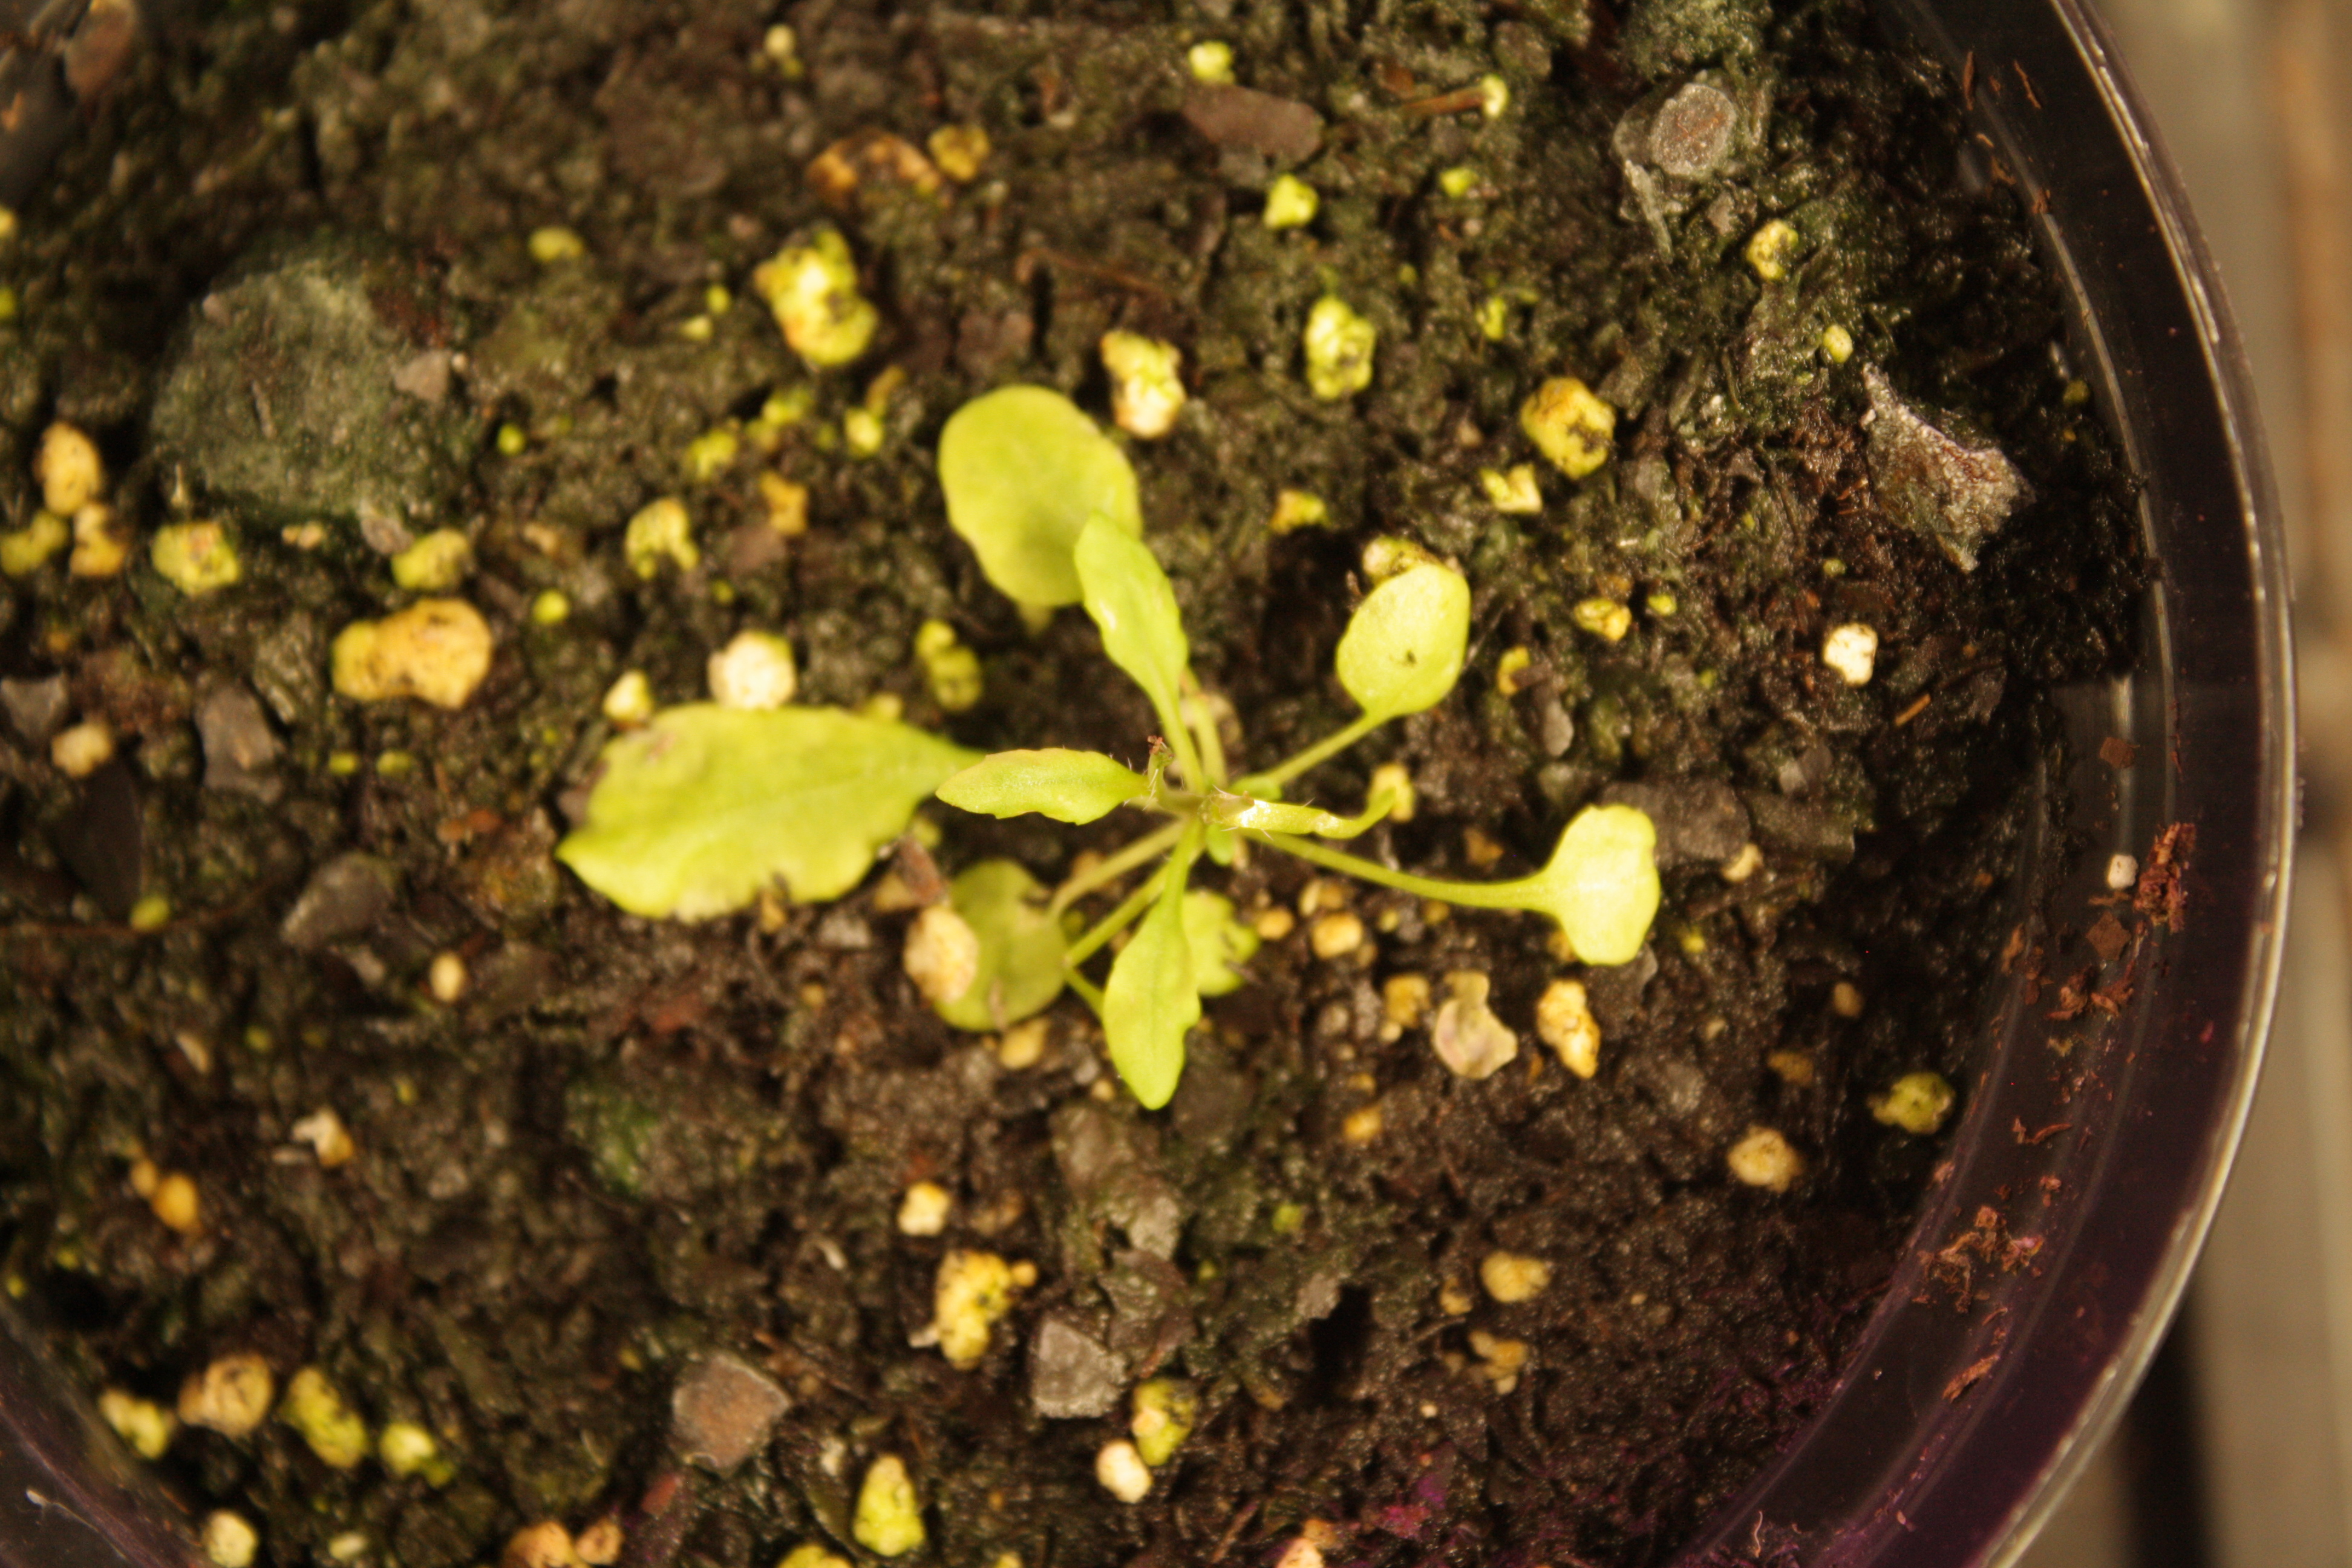leaf: (520, 668, 926, 941), (908, 341, 1153, 619), (1325, 534, 1512, 742), (1064, 507, 1228, 737), (1094, 882, 1237, 1129), (926, 726, 1158, 875), (901, 852, 1088, 1036), (1519, 791, 1690, 977), (1169, 877, 1293, 1013)
